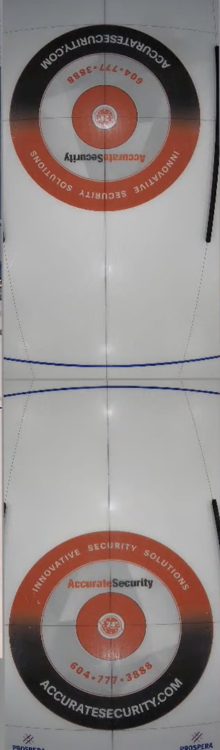house: (9, 531, 214, 731), (7, 24, 201, 211)
